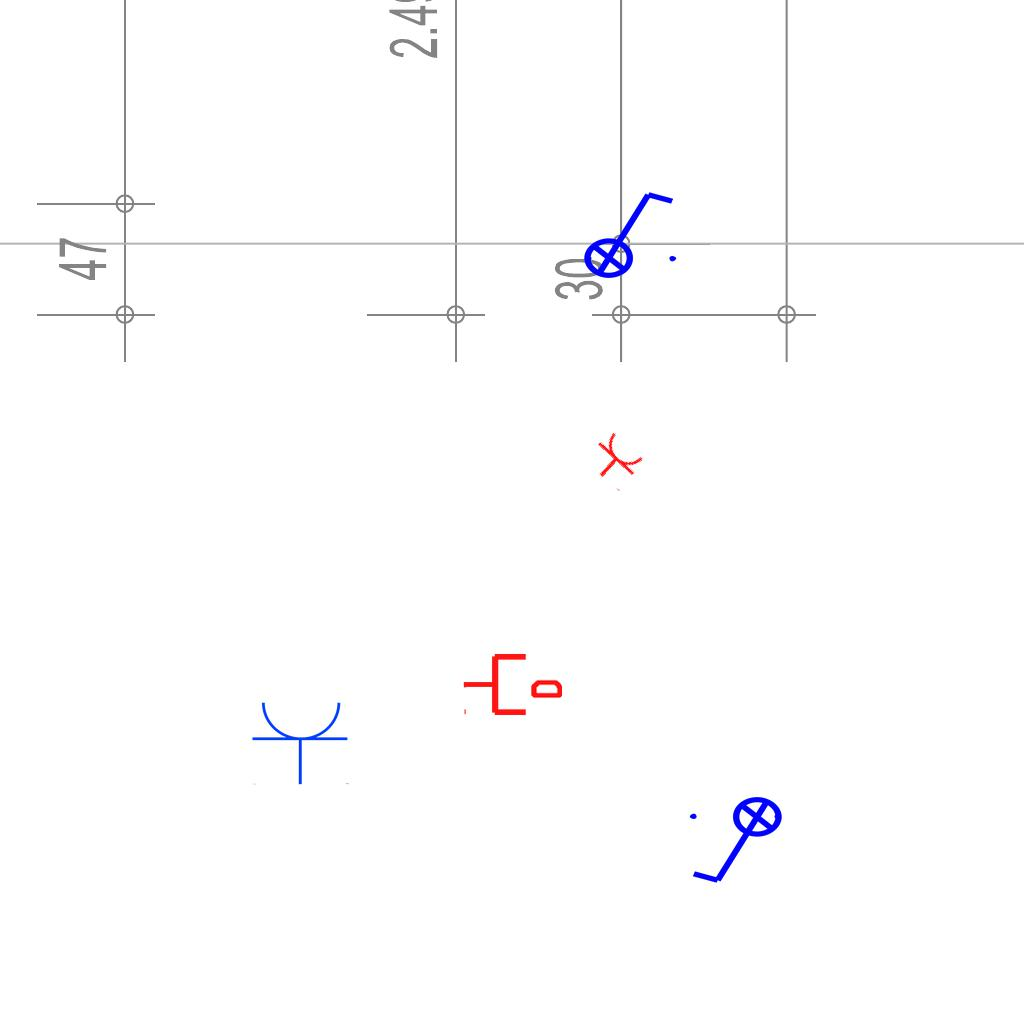Ausschalter_beleuchtet: (684, 795, 796, 891), (570, 184, 682, 280)
Datenanschluss_einfach: (462, 650, 562, 719)
Schukosteckdose_einfach: (251, 698, 351, 785), (582, 428, 649, 494)
